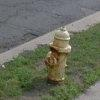Hydrant: (45, 16, 80, 87)
